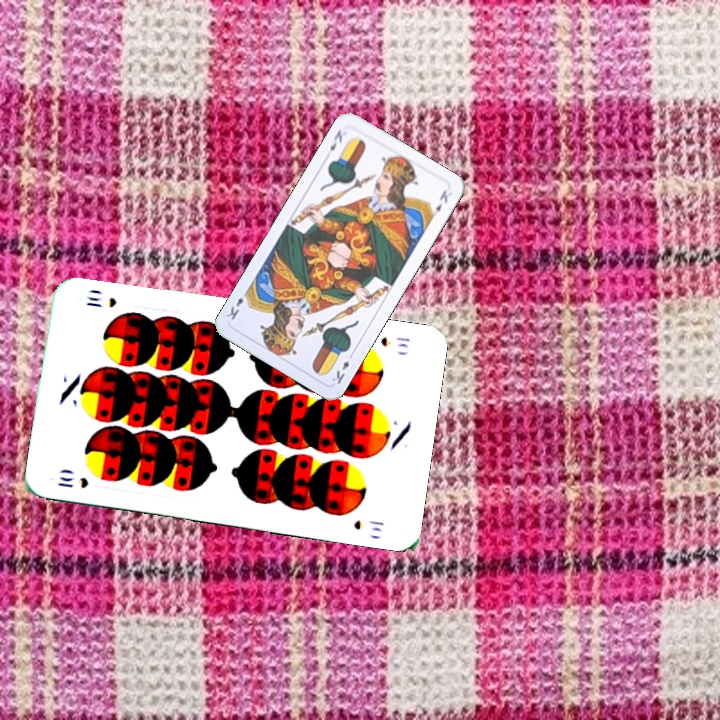EK: (328, 349, 356, 387), (326, 125, 345, 153)
S10: (53, 472, 91, 491), (377, 332, 413, 350)
